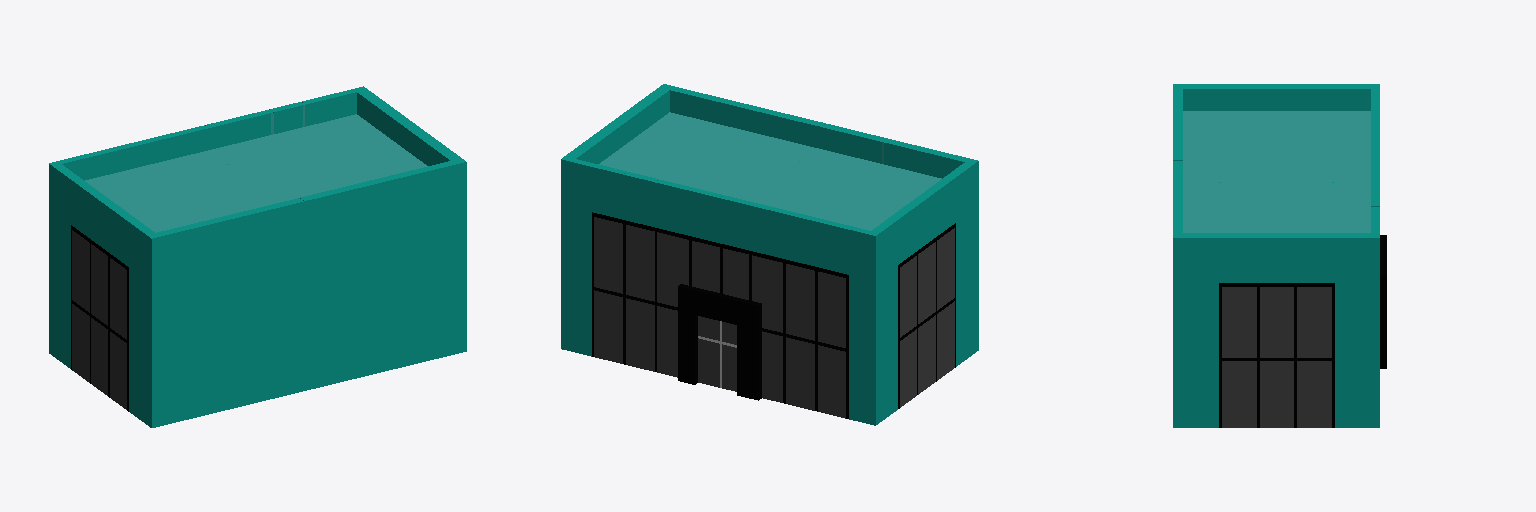
Rendered from fangzi.obj.
3 renders of one model, left to right at view 1: azimuth 30°, elevation 25°; view 2: azimuth 150°, elevation 25°; view 3: azimuth 270°, elevation 25°, orthographic.
Visible parts, largest first — view 1: Cube_Cube.001; view 2: Cube_Cube.001; view 3: Cube_Cube.001.
Part boxes in pixels (left/top/right/bottom): Cube_Cube.001: left=49, top=86, right=466, bottom=427; Cube_Cube.001: left=561, top=84, right=978, bottom=425; Cube_Cube.001: left=1173, top=84, right=1386, bottom=427.
Bounding box in the file's own units: 15.84 × 9.13 × 9.28.